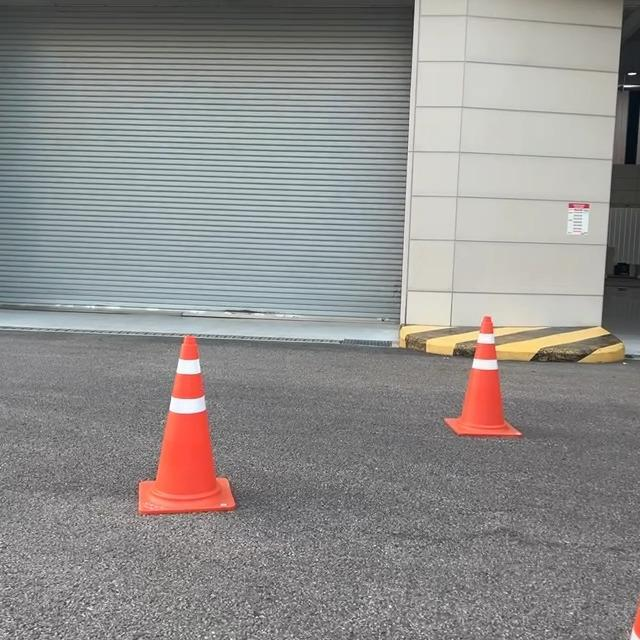fallen_object: (130, 306, 256, 546), (415, 292, 526, 448)
